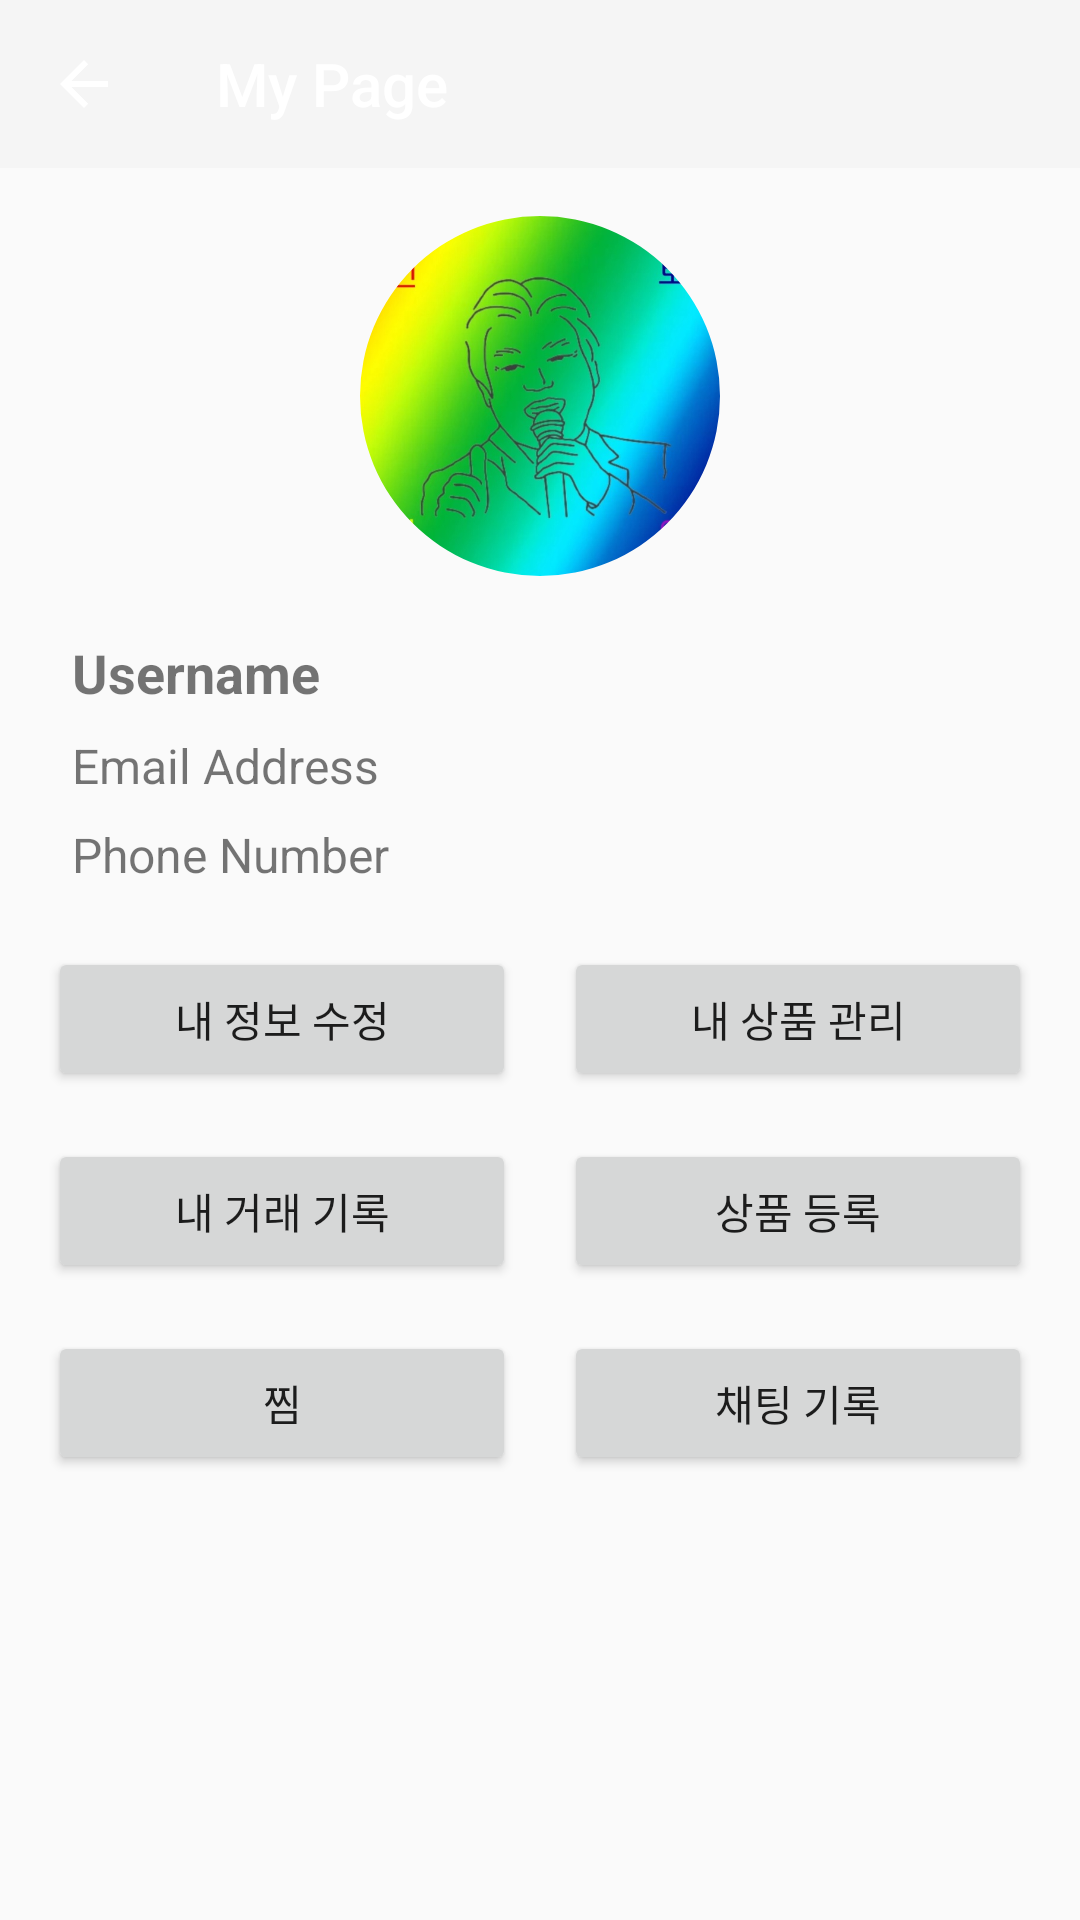

Where icons sit on this 1080×1920 app screen, as {"left": x1, "top": y1, "right": x2, "bottom": y2}:
Profile Image: {"left": 360, "top": 216, "right": 720, "bottom": 576}
